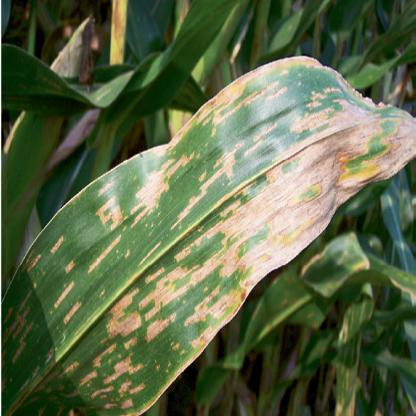Corn leaf blight: (23, 55, 402, 408)
